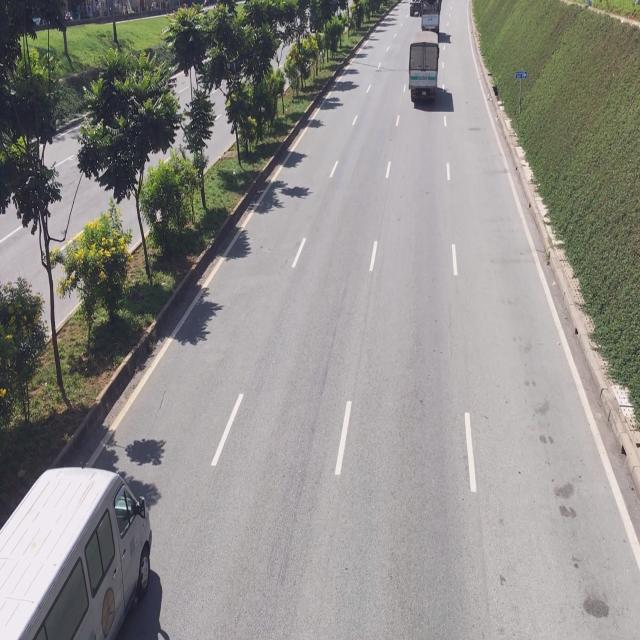bus: (0, 465, 152, 640)
truck: (407, 30, 439, 104)
